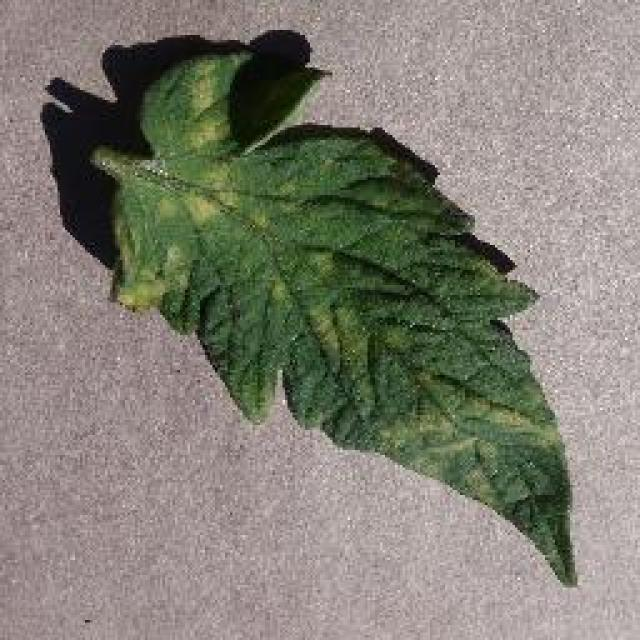Tomato___Leaf_Mold: (79, 50, 570, 580)
